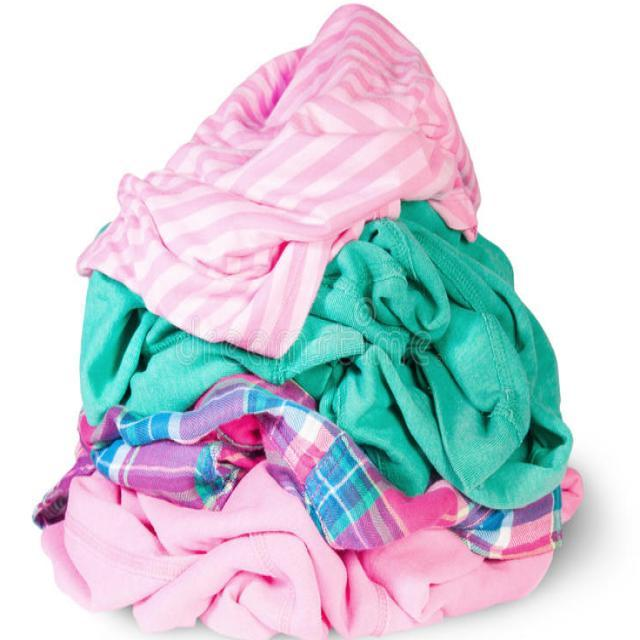clothes: (100, 79, 554, 640)
